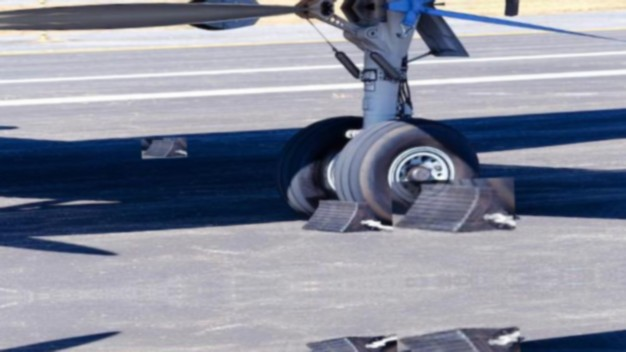chock: (391, 177, 516, 237), (299, 196, 383, 236), (397, 325, 521, 352), (444, 190, 523, 226), (305, 335, 388, 352), (450, 334, 528, 352), (141, 137, 187, 159)
wheel: (338, 117, 480, 227), (270, 114, 367, 219)
